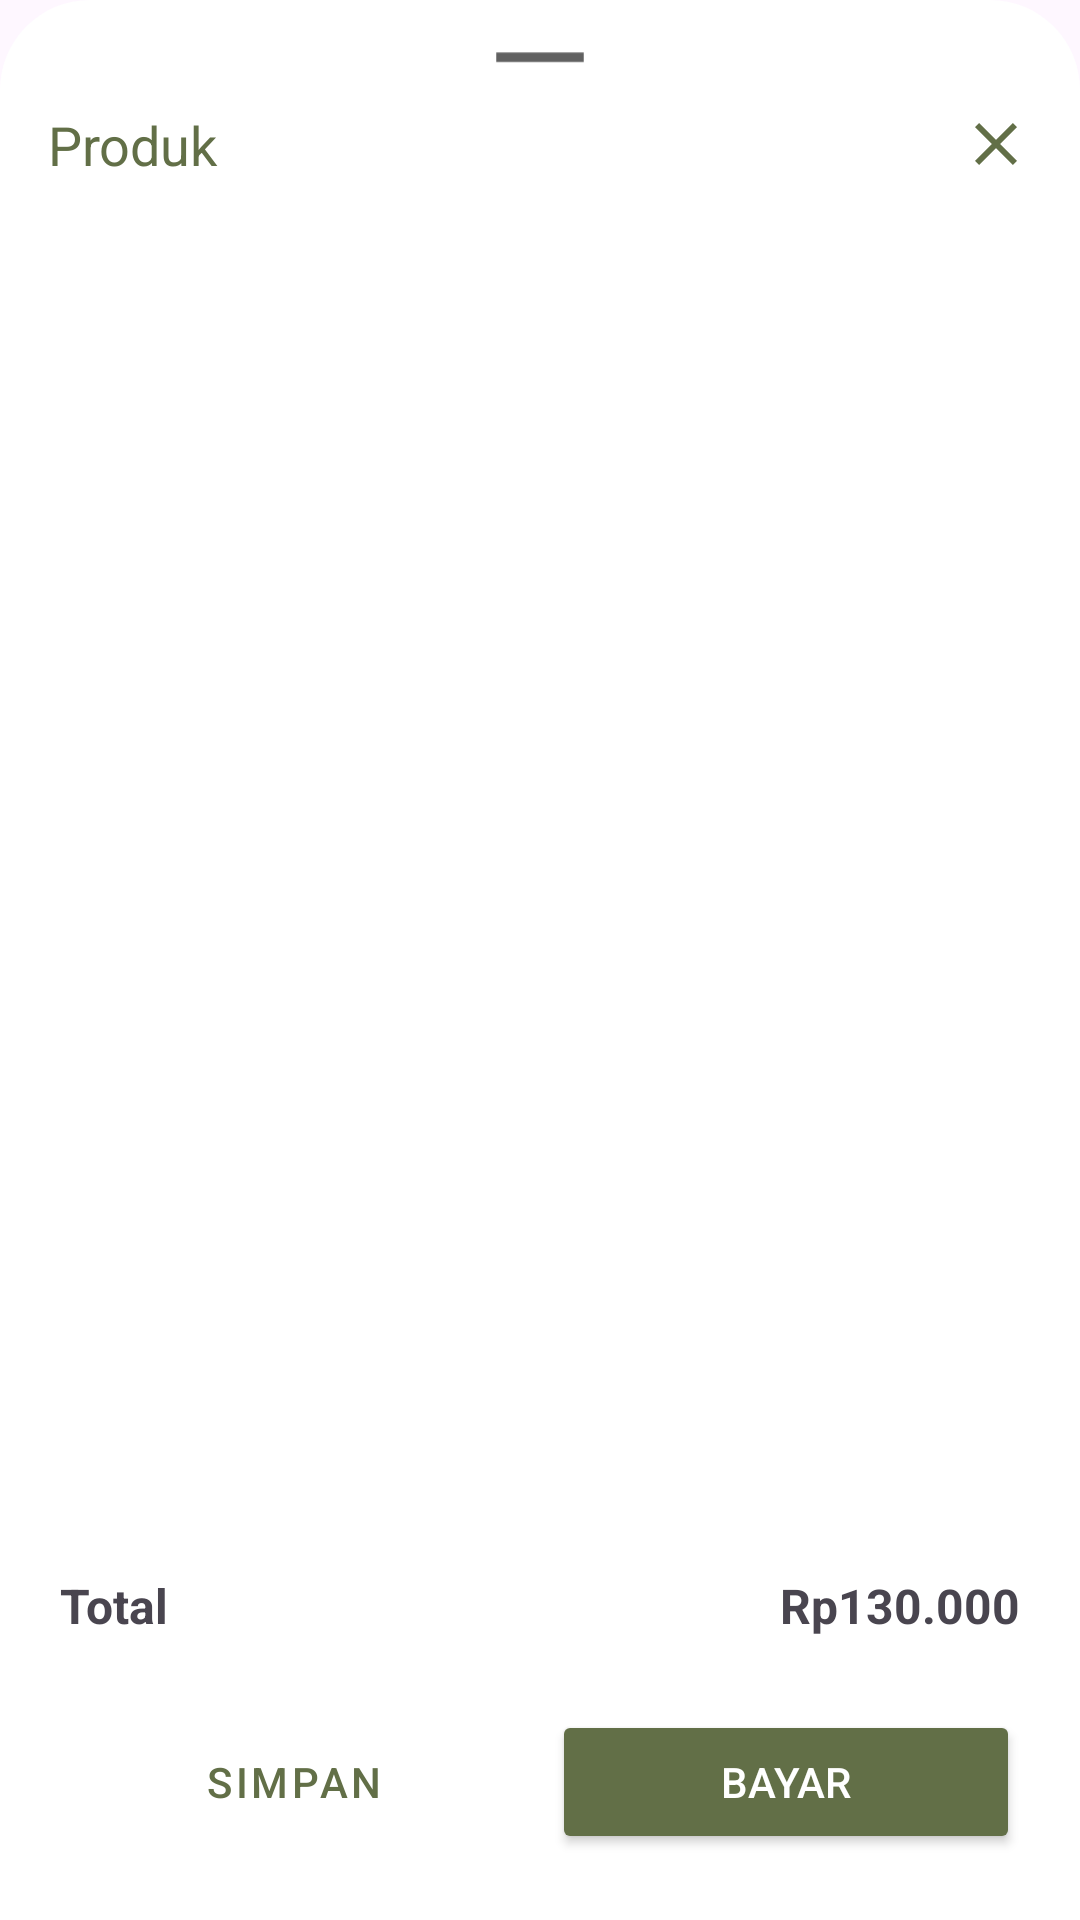

Icons on this 1080*1920 Android screen, each with its box as (x1, y1, x2, y2):
clear: (975, 123, 1017, 165)
